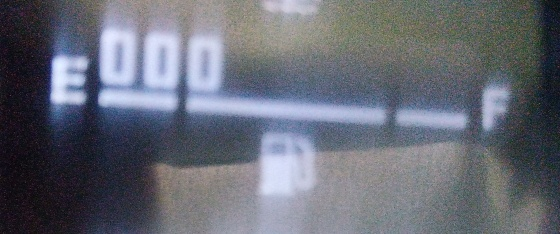grid_pose: (100, 100, 508, 212)
